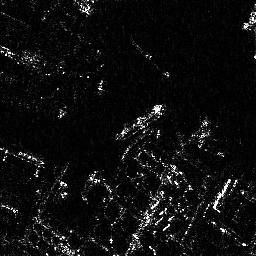ship: (115, 102, 166, 141), (133, 39, 170, 77)
